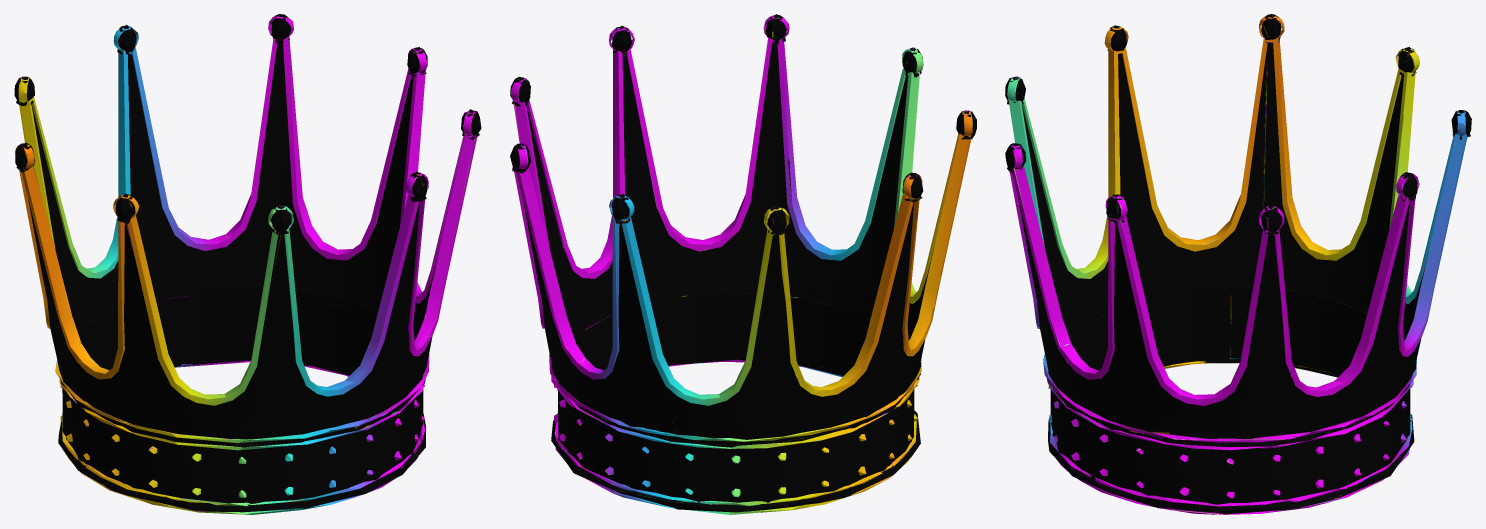
3 views of the same model, side by side, from view 1: azimuth 30°, elevation 25°; view 2: azimuth 150°, elevation 25°; view 3: azimuth 270°, elevation 25° (orthographic).
Visible parts, largest first — view 1: Object_0.006_Baked; view 2: Object_0.006_Baked; view 3: Object_0.006_Baked.
Part boxes in pixels (bbox=[...]): Object_0.006_Baked: bbox=[14, 14, 481, 514]; Object_0.006_Baked: bbox=[510, 14, 976, 514]; Object_0.006_Baked: bbox=[1005, 14, 1471, 514].
Bounding box in the file's own units: 2.63 × 2.02 × 2.6.
1 material, 1 textured.
